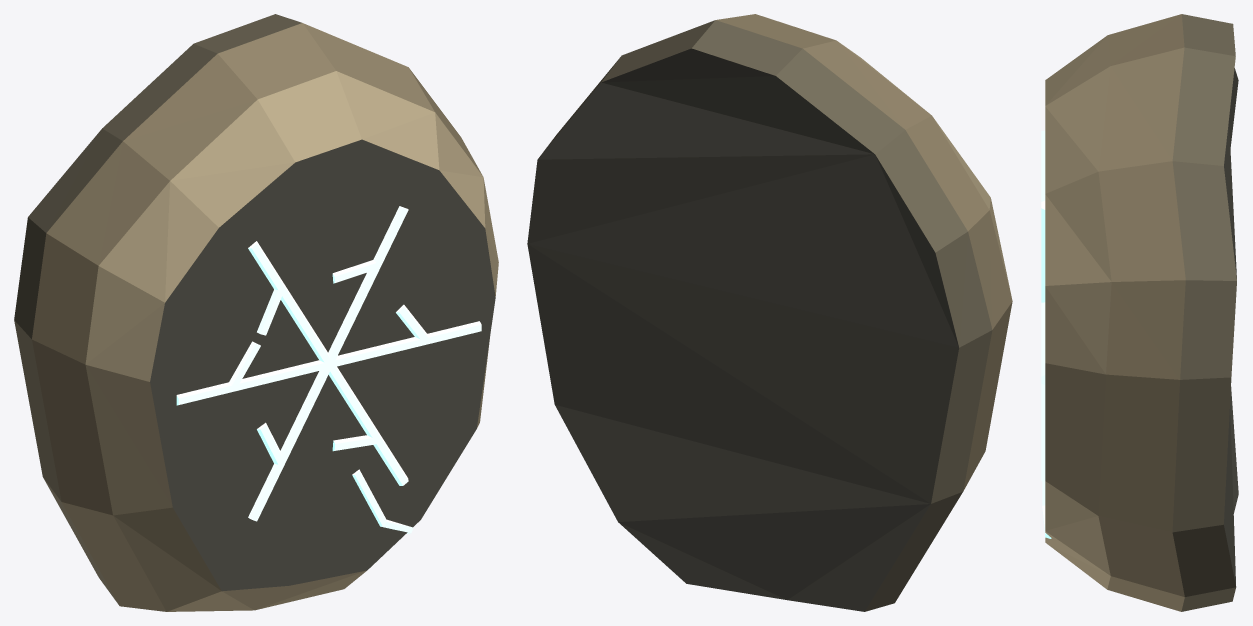
File: FERNSTONE_FROST.hi.glb
3 renders of one model, left to right at view 1: azimuth 30°, elevation 25°; view 2: azimuth 150°, elevation 25°; view 3: azimuth 270°, elevation 25°, orthographic.
Visible parts, largest first — view 1: Body_Mesh; view 2: Body_Mesh; view 3: Body_Mesh.
Part boxes in pixels (<box>): Body_Mesh: <box>14,14,498,611</box>; Body_Mesh: <box>527,14,1012,611</box>; Body_Mesh: <box>1041,14,1238,611</box>.
Size of the model in its own units: 0.2726 by 0.3257 by 0.1039.
1 material, 1 textured.
